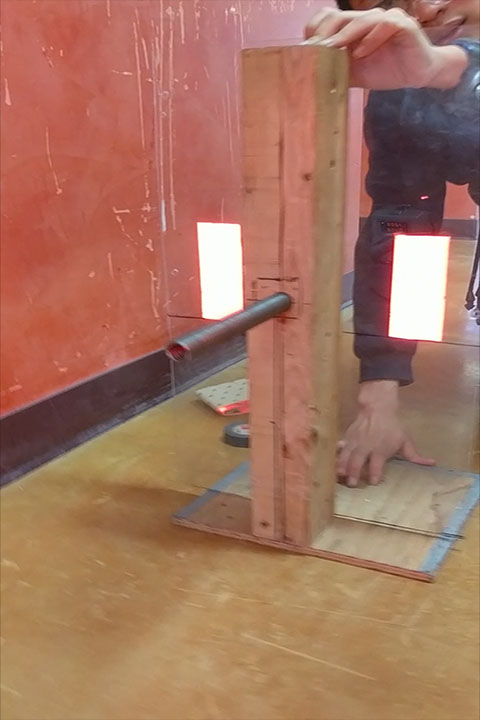gear: (388, 233, 450, 342), (198, 223, 244, 322)
